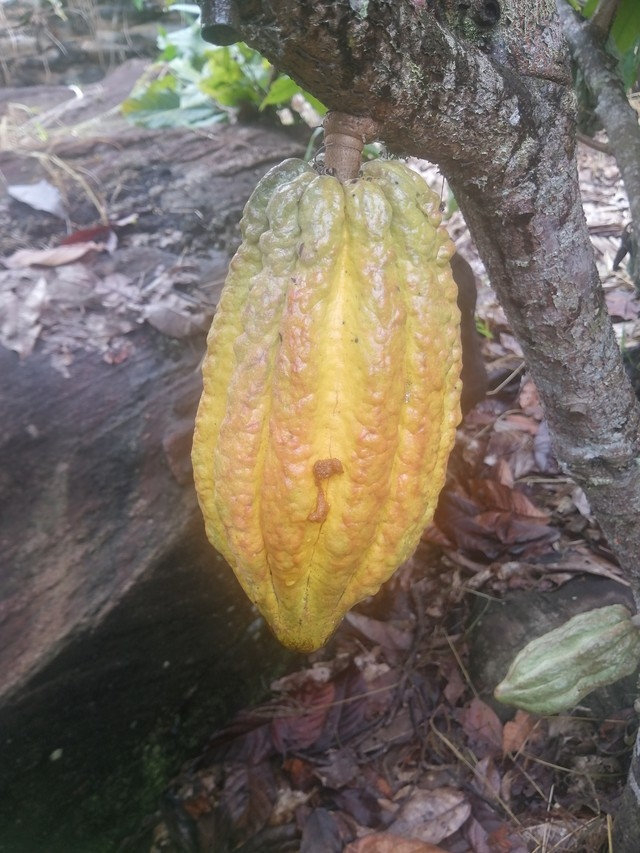carmenta foraseminis: (185, 138, 470, 656)
